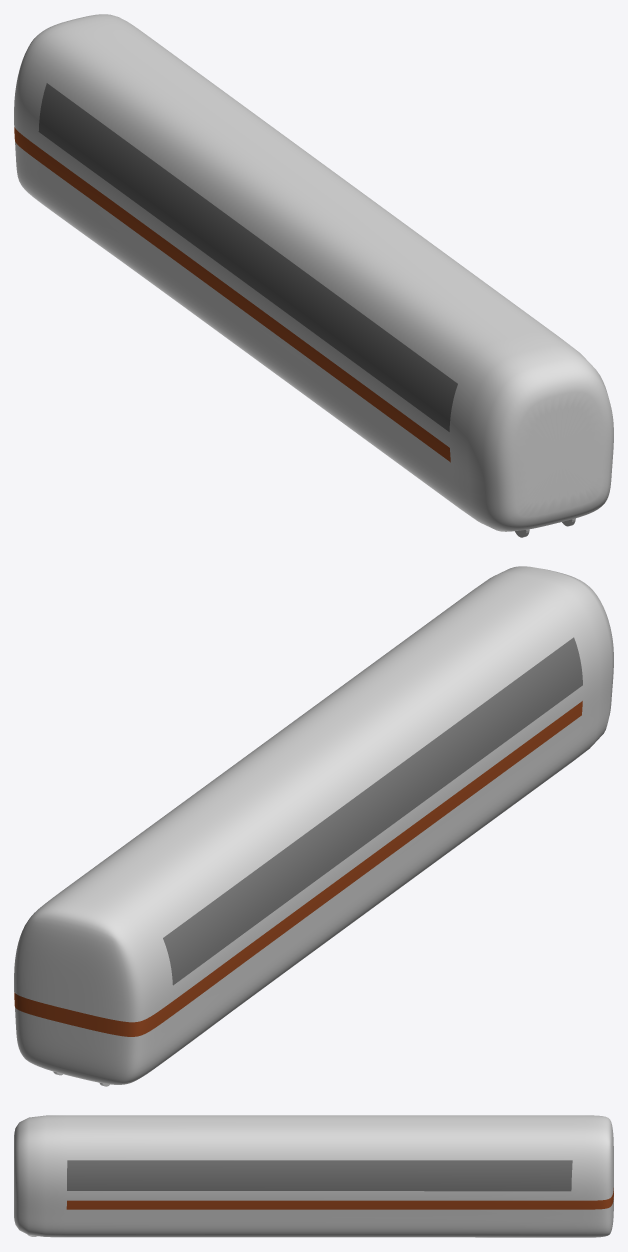
File: ICE_Waggon.fbx
3 renders of one model, top to bottom at view 1: azimuth 30°, elevation 25°; view 2: azimuth 150°, elevation 25°; view 3: azimuth 270°, elevation 25°, orthographic. The views are drawn at different scales.
Visible parts, largest first — view 1: ICE_Waggon_Body; view 2: ICE_Waggon_Body; view 3: ICE_Waggon_Body.
Part boxes in pixels (<box>): ICE_Waggon_Body: <box>14,14,613,531</box>; ICE_Waggon_Body: <box>14,566,613,1084</box>; ICE_Waggon_Body: <box>14,1115,613,1237</box>.
Size of the model in its own units: 363 by 451 by 2286.
